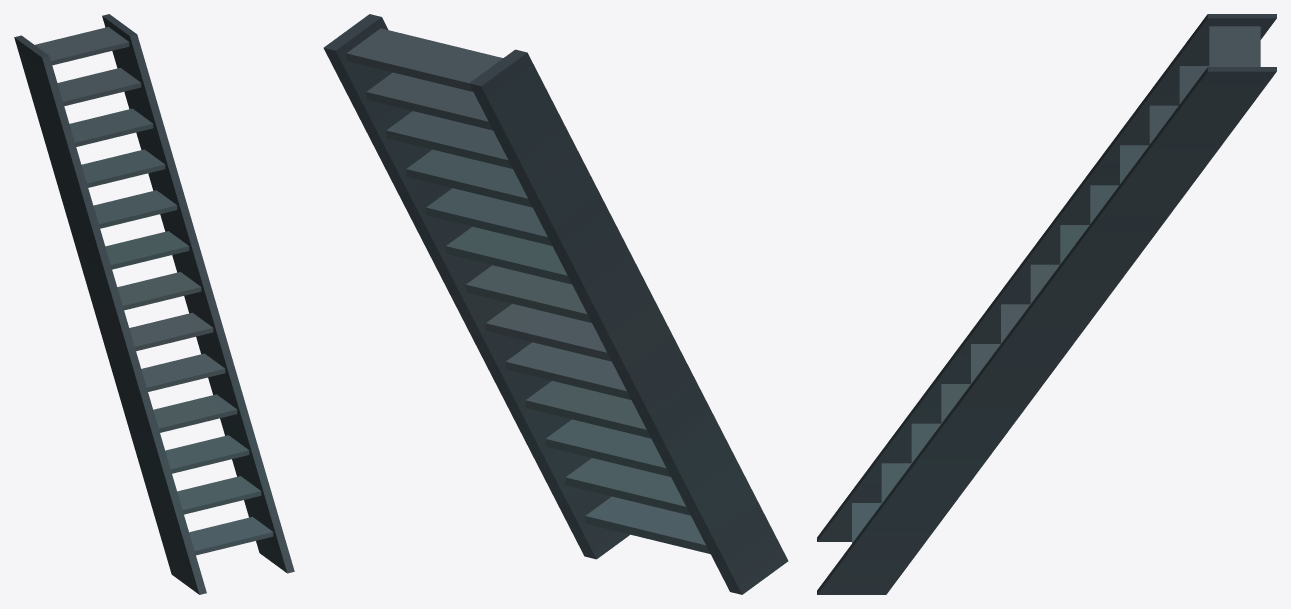
File: FireEscape_B_2.fbx
The picture shows the model from 3 angles, left to right: view 1: azimuth 30°, elevation 25°; view 2: azimuth 150°, elevation 25°; view 3: azimuth 270°, elevation 25°; orthographic projection. The views are drawn at different scales.
Parts seen in each view (by area): view 1: FireEscape_B_2; view 2: FireEscape_B_2; view 3: FireEscape_B_2.
Part boxes in pixels (<box>): FireEscape_B_2: <box>14,14,294,594</box>; FireEscape_B_2: <box>323,14,788,594</box>; FireEscape_B_2: <box>817,14,1276,594</box>.
Bounding box in the file's own units: 76.75 × 325 × 259.
